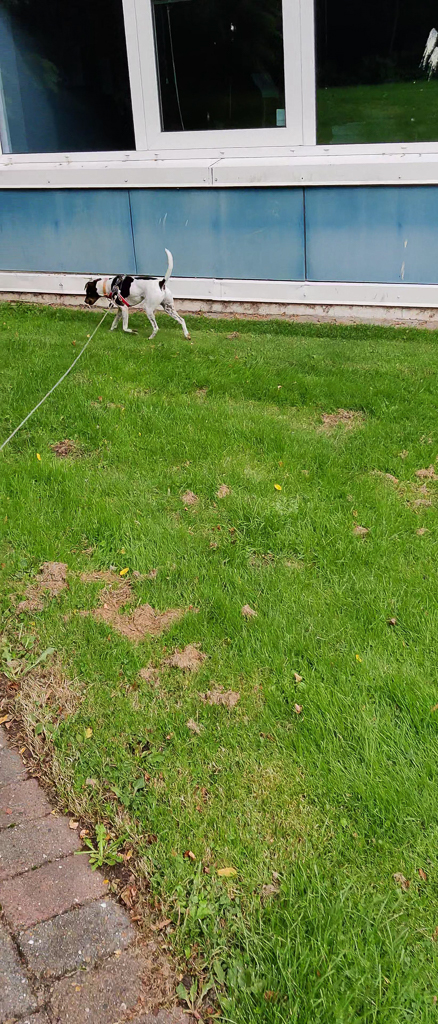Dog: (68, 242, 203, 353)
